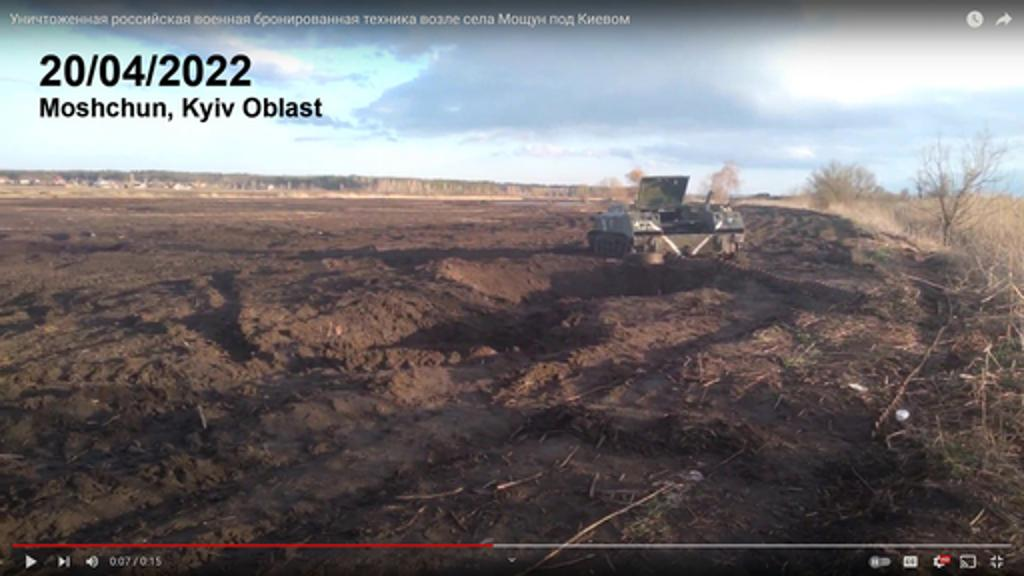APC-IFV: (576, 172, 744, 276)
